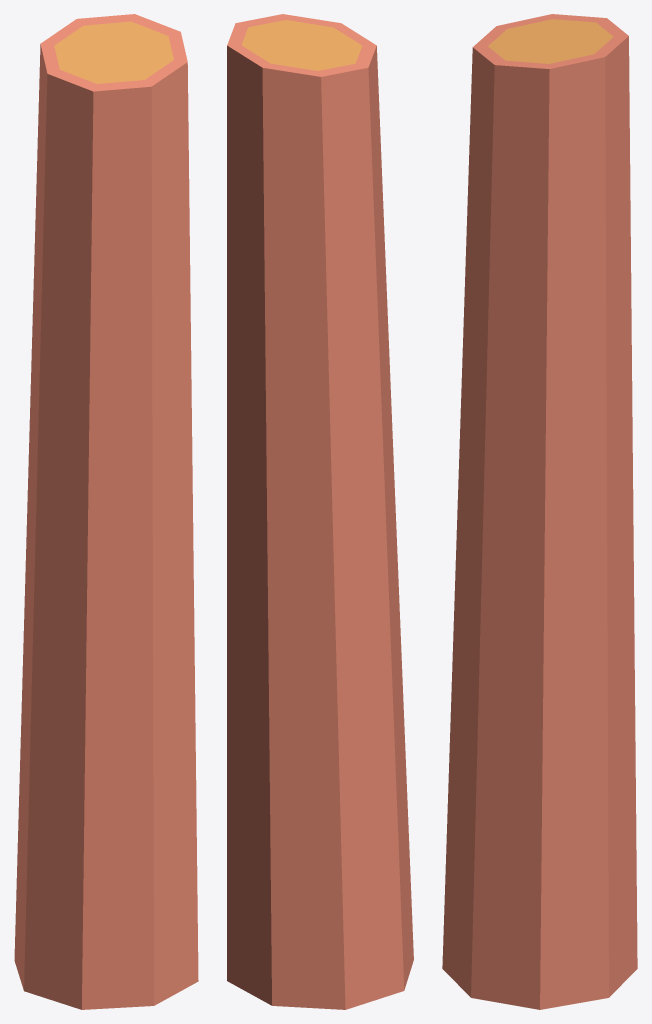
File: cocoa_cut.fbx
3 views of the same model, side by side, from view 1: azimuth 30°, elevation 25°; view 2: azimuth 150°, elevation 25°; view 3: azimuth 270°, elevation 25° (orthographic). The views are drawn at different scales.
Parts seen in each view (by area): view 1: cocoa_cut; view 2: cocoa_cut; view 3: cocoa_cut.
Boxes of the visible parts, <box> form: cocoa_cut: <box>14,14,198,1009</box>; cocoa_cut: <box>227,14,413,1009</box>; cocoa_cut: <box>442,14,637,1009</box>.
Bounding box in the file's own units: 43.44 × 231 × 43.44.
